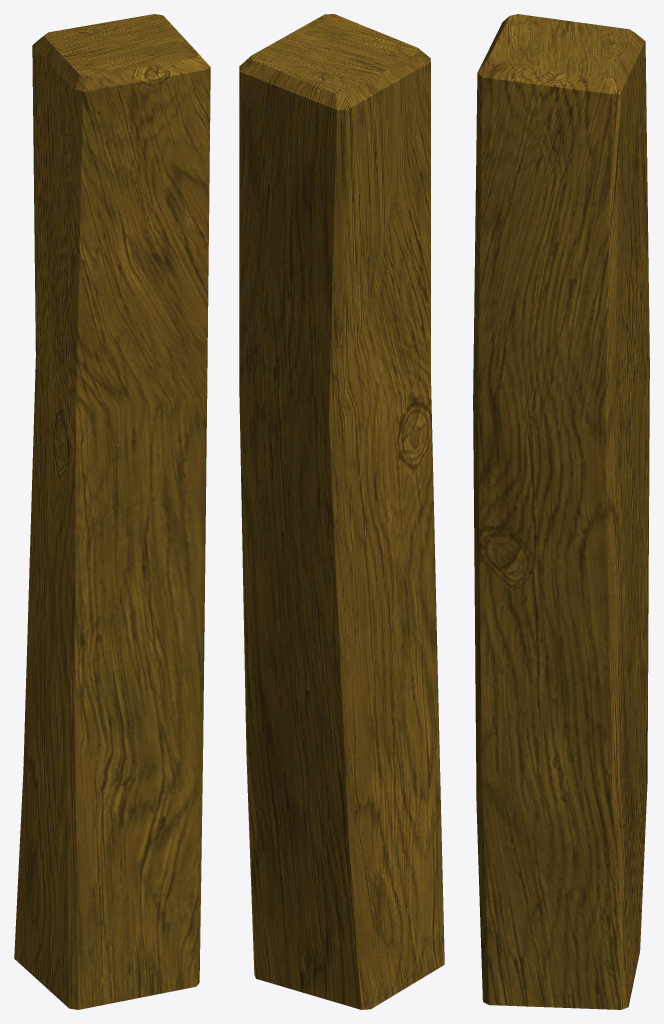
The model's file is FencePillar.fbx.
3 renders of one model, left to right at view 1: azimuth 30°, elevation 25°; view 2: azimuth 150°, elevation 25°; view 3: azimuth 270°, elevation 25°, orthographic. The views are drawn at different scales.
Visible parts, largest first — view 1: ForestFencePillar; view 2: ForestFencePillar; view 3: ForestFencePillar.
Boxes of the visible parts, <box> form: ForestFencePillar: <box>14,14,210,1009</box>; ForestFencePillar: <box>239,14,444,1009</box>; ForestFencePillar: <box>473,14,649,1009</box>.
Bounding box in the file's own units: 1.26 × 7.11 × 1.21.
